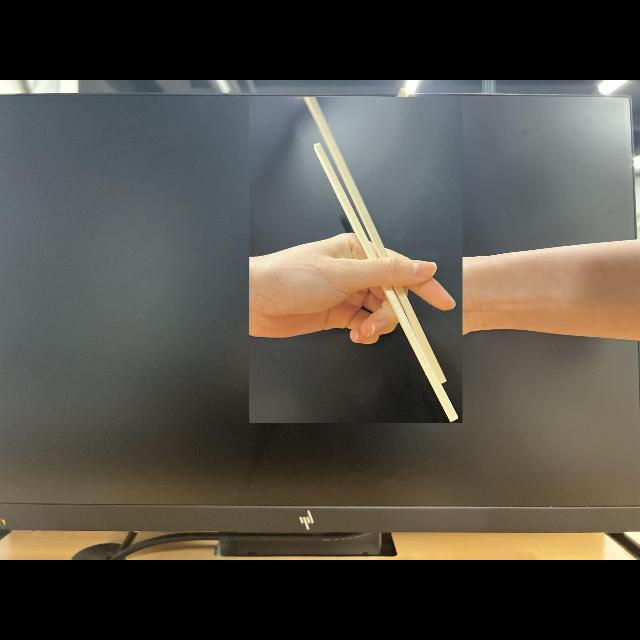stick: (250, 98, 462, 422)
